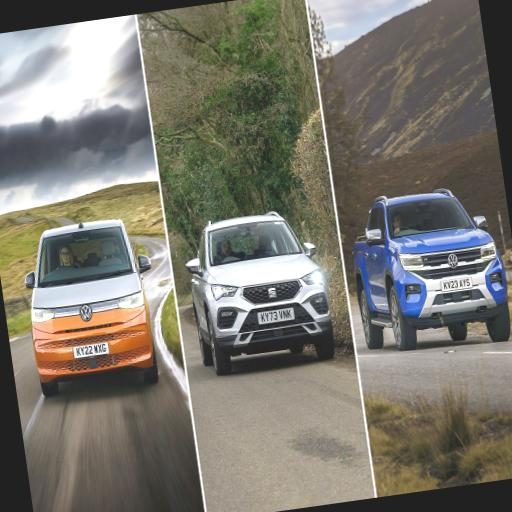Sedan-sDLz: (179, 202, 342, 378)
pickup: (346, 180, 512, 364)
van: (17, 208, 166, 398)
